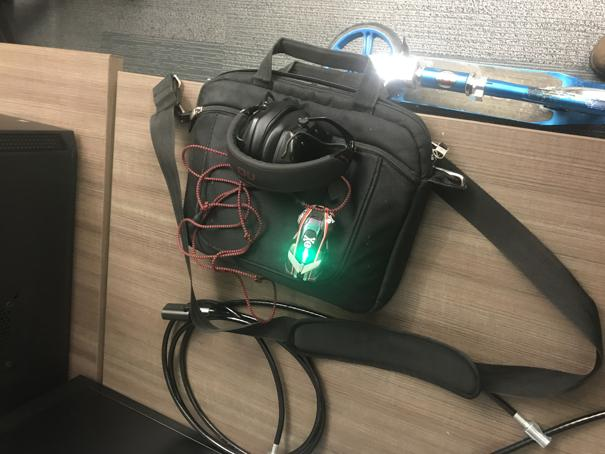Skull: (283, 202, 337, 282)
